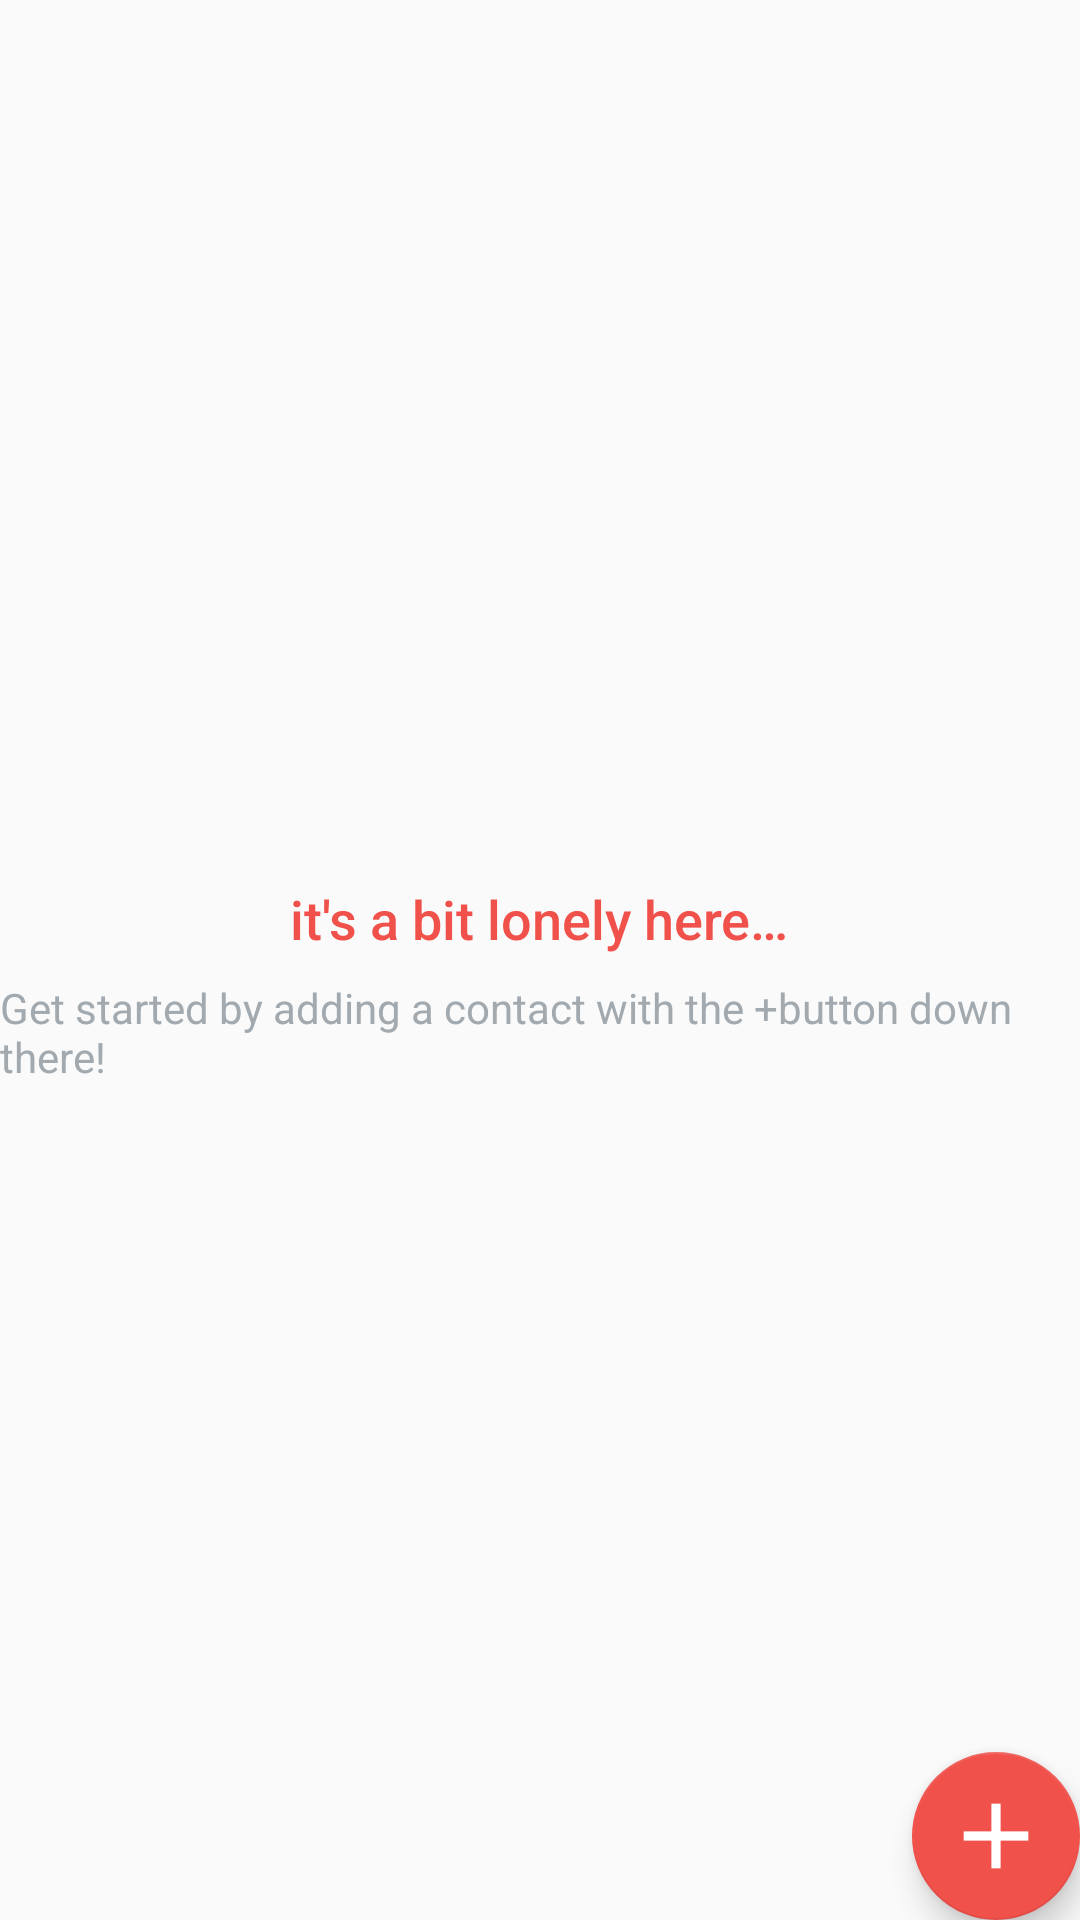

Icons on this 1080px×1920px Android screen, each with the point to tap as point (x, y):
add: point (996, 1836)
